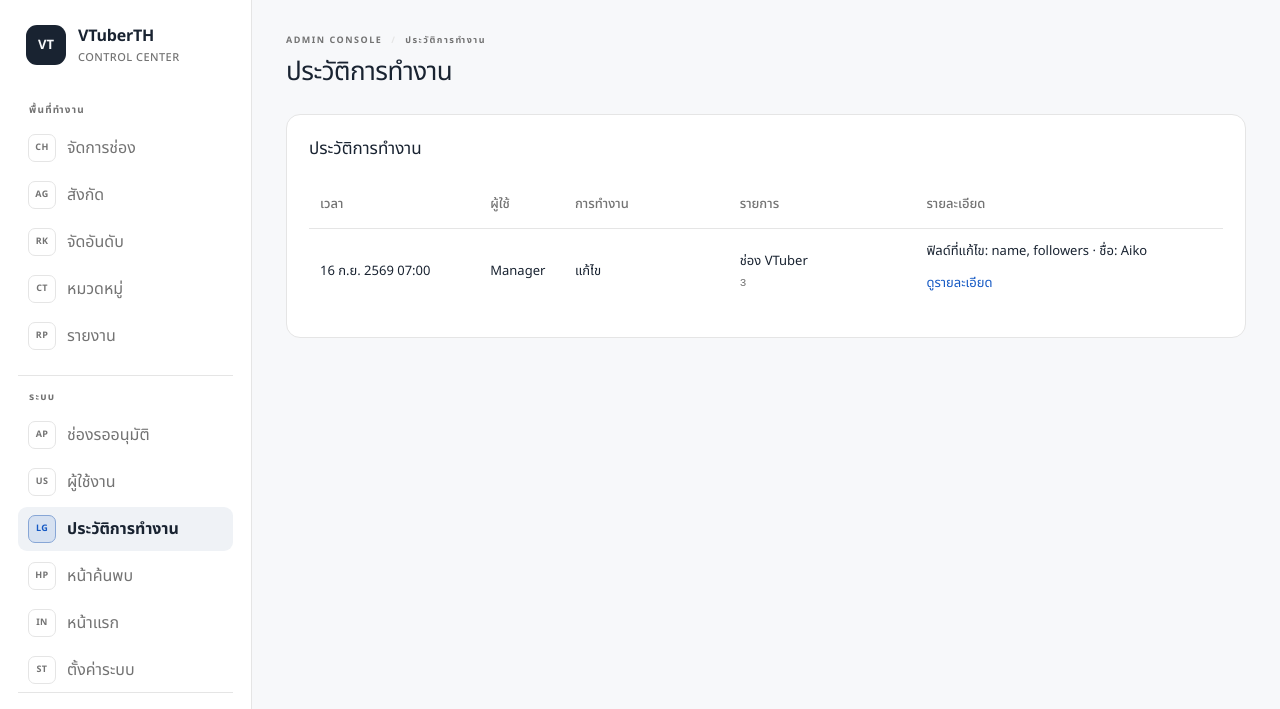
Test: Manager system history › shows a readable audit record and its expanded details
Expected: the text "แก้ไข" is shown, [564,228,729,315]
Expected: the text "ช่อง VTuber" is shown, [740,251,808,271]
Click the heading "ดูรายละเอียด".
click(959, 283)  # box [926,273,992,293]
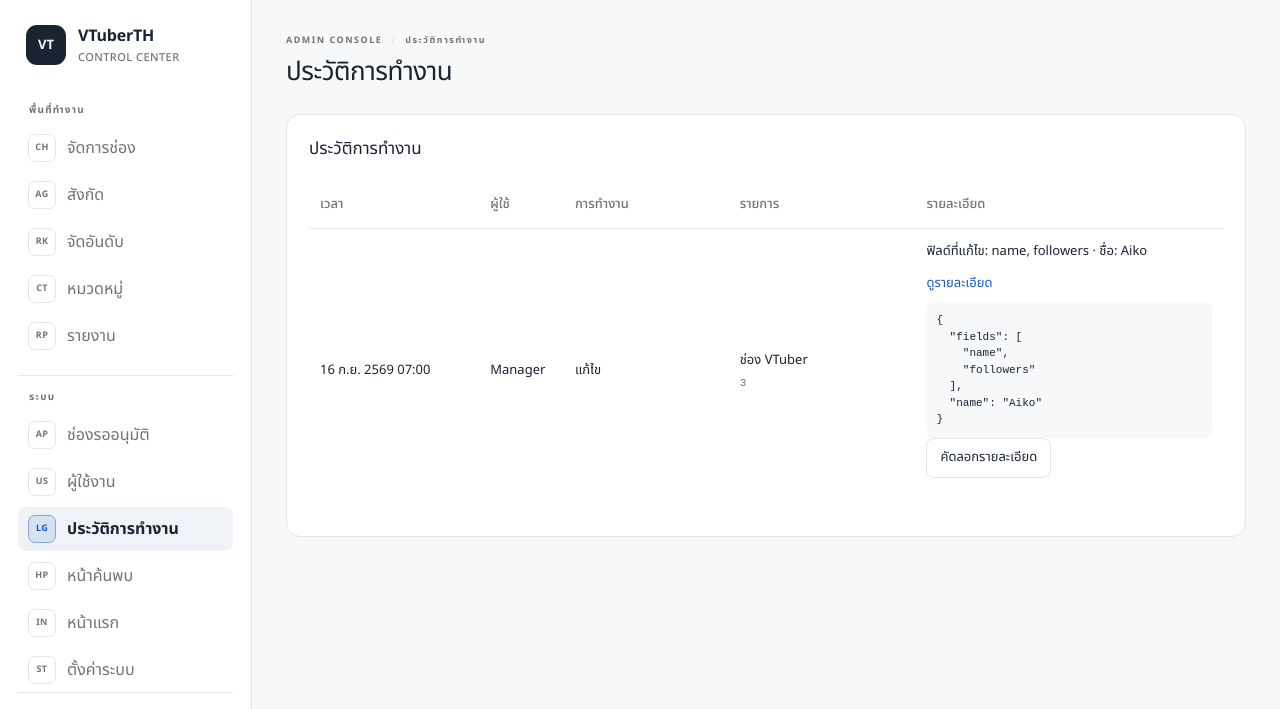
Now the text "{ \"fields\": [ \"name\", \"followers\" ], \"name\": \"Aiko\" }" is shown, box [926,302,1212,438]
